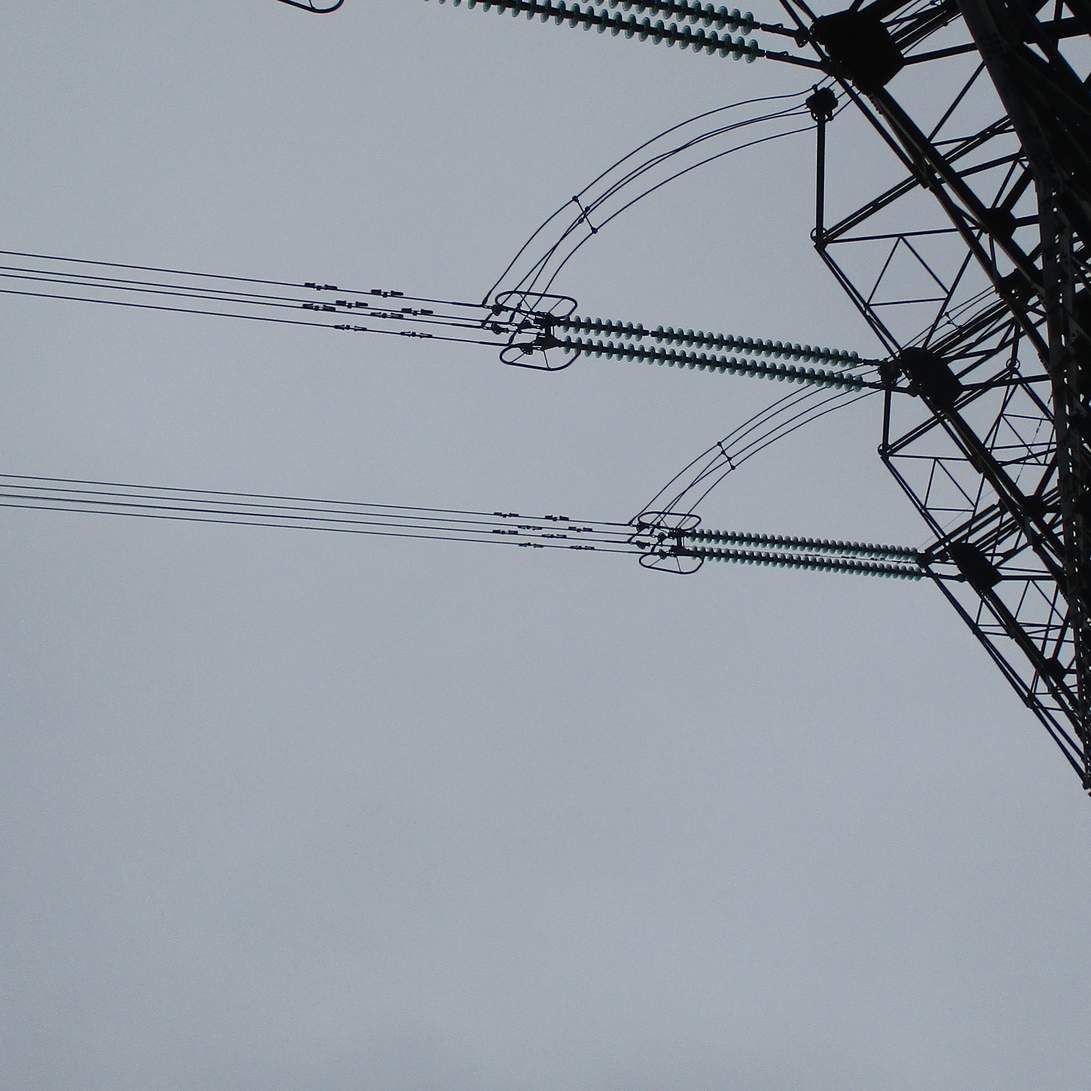绝缘子自爆区域: (643, 324, 657, 342)
